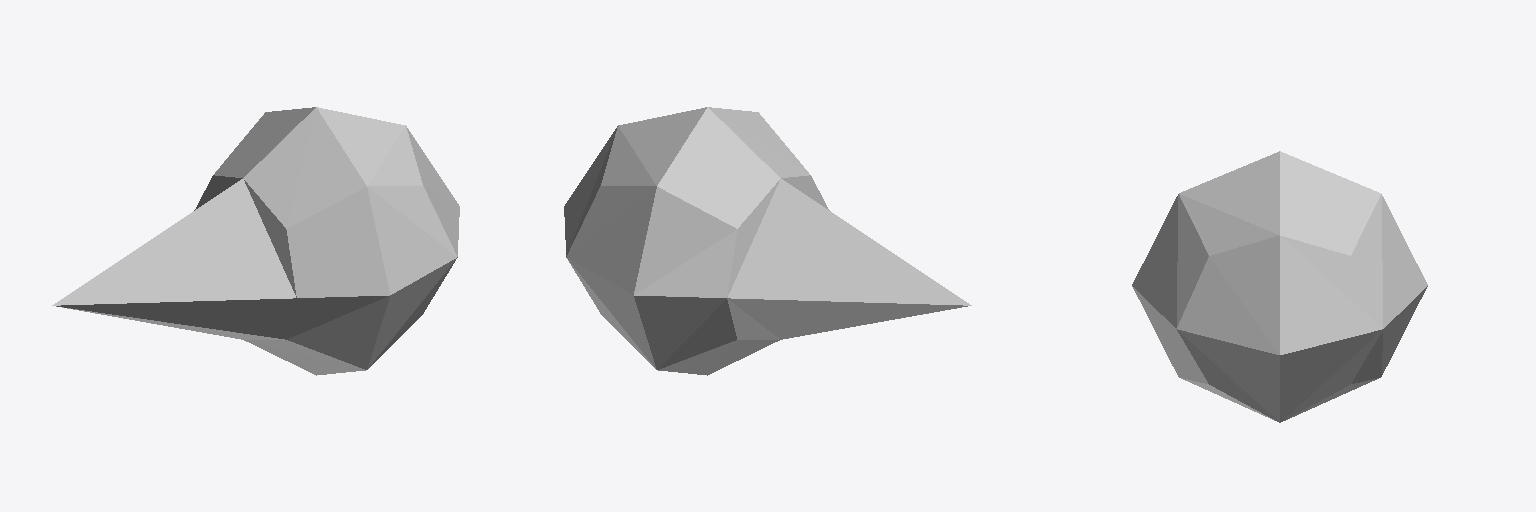
Rendered from Projectile_E_0001.obj.
3 renders of one model, left to right at view 1: azimuth 30°, elevation 25°; view 2: azimuth 150°, elevation 25°; view 3: azimuth 270°, elevation 25°, orthographic.
Parts seen in each view (by area): view 1: Elec_Ball; view 2: Elec_Ball; view 3: Elec_Ball.
Part boxes in pixels (x1,y1,x2,y2): Elec_Ball: (52,107,459,375); Elec_Ball: (564,107,971,375); Elec_Ball: (1132,151,1427,422).
Size of the model in its own units: 7.6 by 4.78 by 4.78.